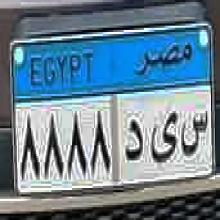8: (66, 106, 90, 179), (89, 107, 112, 180), (18, 113, 41, 184), (43, 115, 64, 182)
daal: (124, 114, 144, 168)
seen: (180, 112, 210, 159)
yaa: (148, 108, 178, 168)
